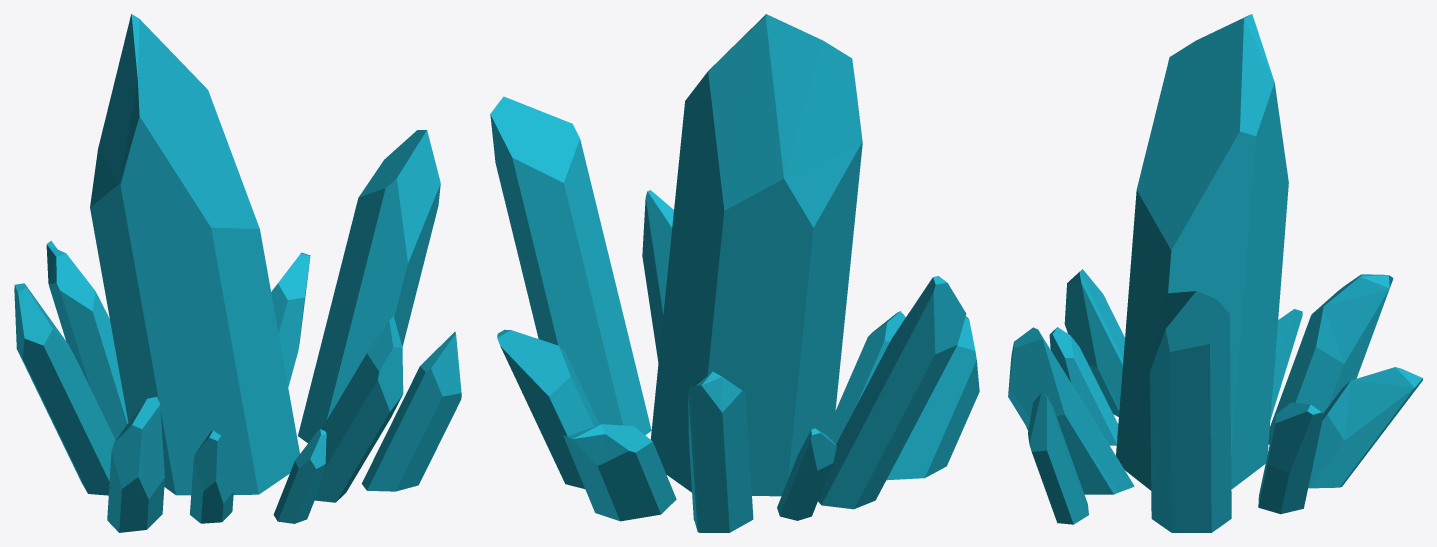
The model's file is Crystals.fbx.
3 renders of one model, left to right at view 1: azimuth 30°, elevation 25°; view 2: azimuth 150°, elevation 25°; view 3: azimuth 270°, elevation 25°, orthographic. The views are drawn at different scales.
Visible parts, largest first — view 1: Cylinder.012; view 2: Cylinder.012; view 3: Cylinder.012.
Boxes of the visible parts, x1=… form: Cylinder.012: x1=14, y1=14, x2=461, y2=532; Cylinder.012: x1=490, y1=14, x2=979, y2=532; Cylinder.012: x1=1008, y1=14, x2=1422, y2=532.
Bounding box in the file's own units: 111 × 113 × 101.
